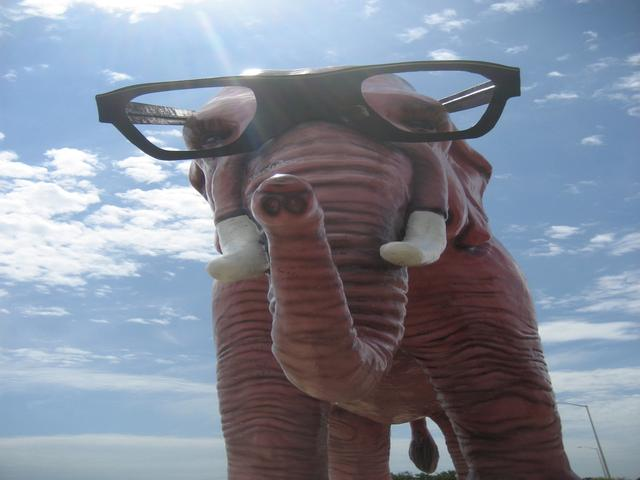elephant: (69, 34, 583, 472)
